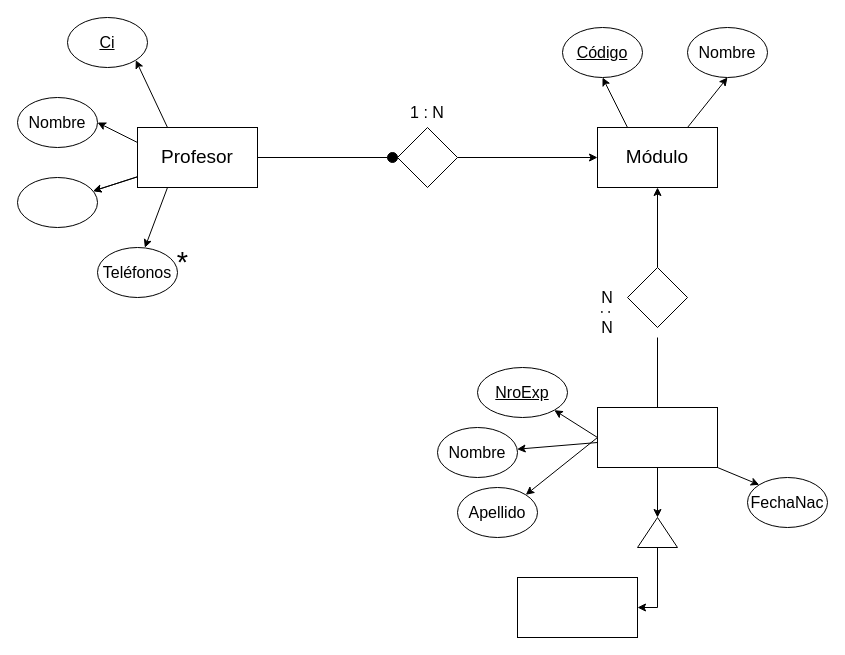
Some shapes in this 845 by 655 pixel diagram are drawn without their labels. The box of each missing label's shape, as (x1, y1, x2, y2) in pixels:
Alumno: (596, 406, 718, 468)
asiste: (626, 266, 688, 328)
Delegado: (516, 576, 638, 638)
Dirección: (16, 176, 98, 228)
Imparte: (396, 126, 458, 188)
